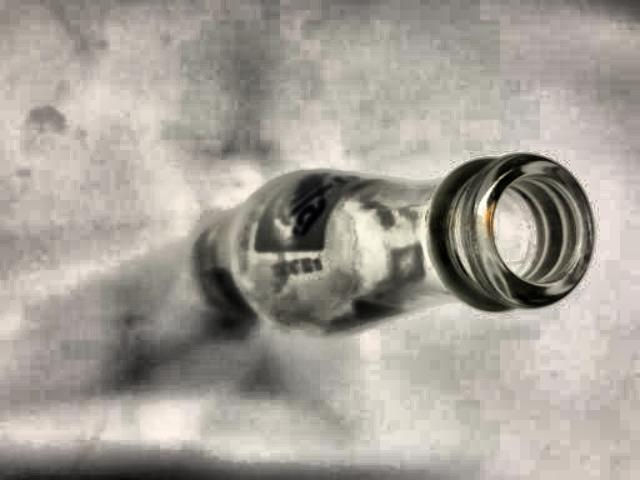Bottles: (188, 110, 596, 382)
